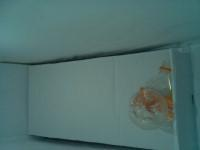bottle: (128, 60, 174, 132)
